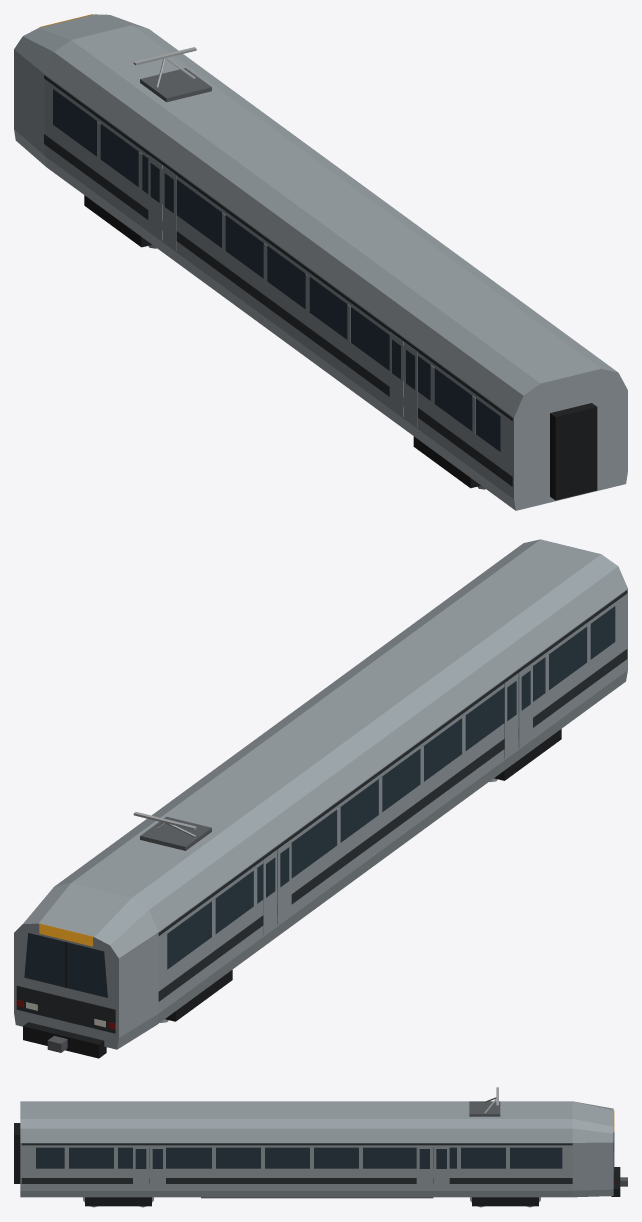
Rendered from carriage_cab.glb.
The picture shows the model from 3 angles, top to bottom: view 1: azimuth 30°, elevation 25°; view 2: azimuth 150°, elevation 25°; view 3: azimuth 270°, elevation 25°; orthographic projection. The views are drawn at different scales.
Visible parts, largest first — view 1: CarriageCab, DoorsL; view 2: CarriageCab, DoorsL; view 3: CarriageCab, DoorsR.
Boxes of the visible parts, x1,y1,x2,y2 form: CarriageCab: (14, 14, 627, 510); DoorsL: (148, 155, 417, 427); CarriageCab: (14, 539, 627, 1058); DoorsL: (263, 663, 532, 935); CarriageCab: (14, 1087, 627, 1207); DoorsR: (133, 1145, 449, 1189).
Size of the model in its own units: 3.04 by 4.4 by 23.8.
